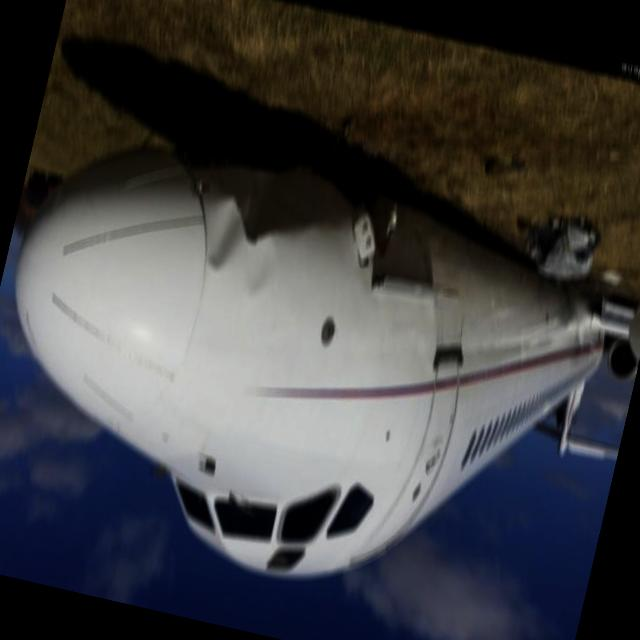dent: (192, 188, 252, 278), (236, 231, 284, 302)
